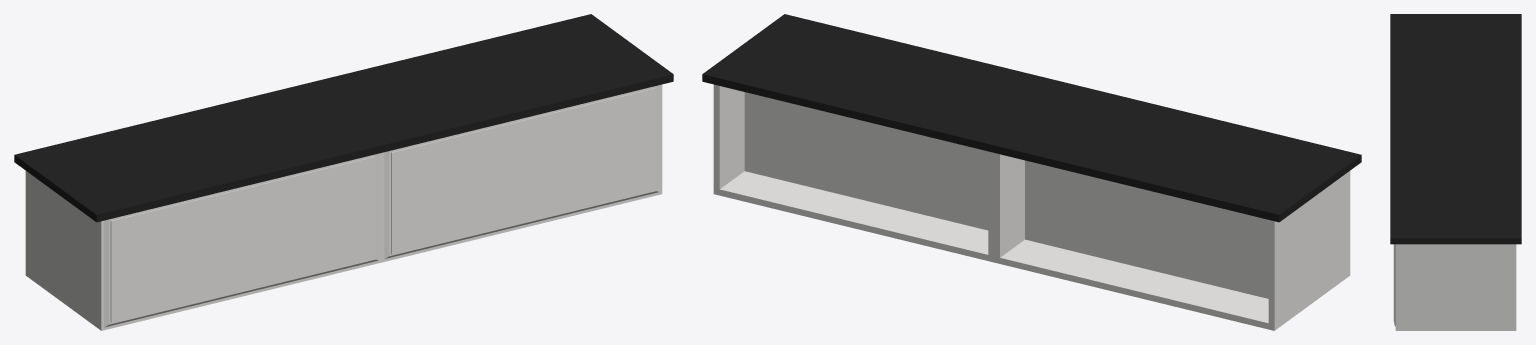
File: SM_reception.fbx
3 renders of one model, left to right at view 1: azimuth 30°, elevation 25°; view 2: azimuth 150°, elevation 25°; view 3: azimuth 270°, elevation 25°, orthographic. The views are drawn at different scales.
Visible parts, largest first — view 1: Box257; view 2: Box257; view 3: Box257.
Boxes of the visible parts, box(x1,y1,x2,y2) form: Box257: box(14, 14, 673, 330); Box257: box(702, 14, 1361, 330); Box257: box(1390, 14, 1521, 330).
Size of the model in its own units: 218 by 43.37 by 53.73.
